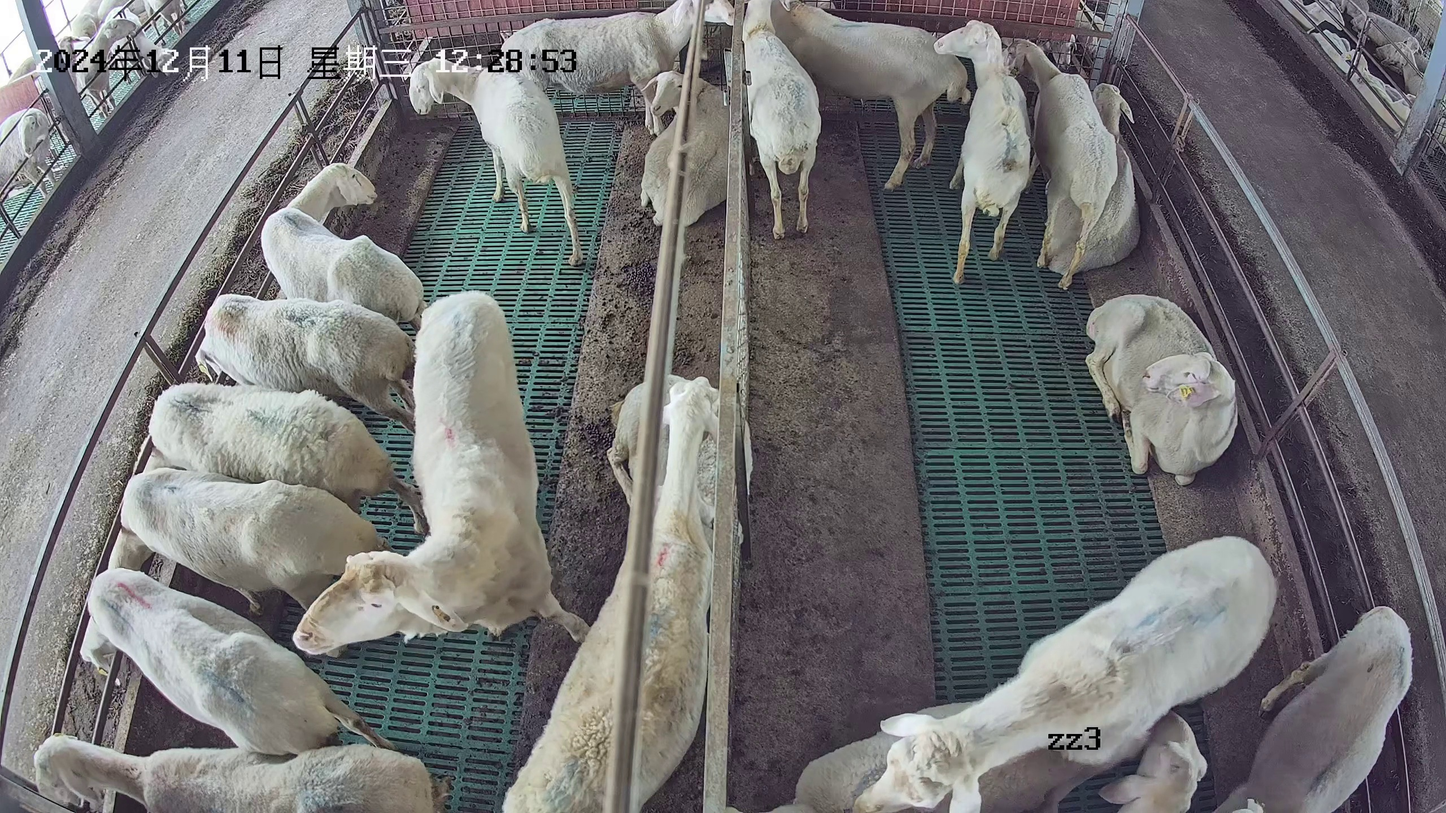Smounting: (767, 533, 1279, 813)
mounted: (770, 698, 1151, 813)
